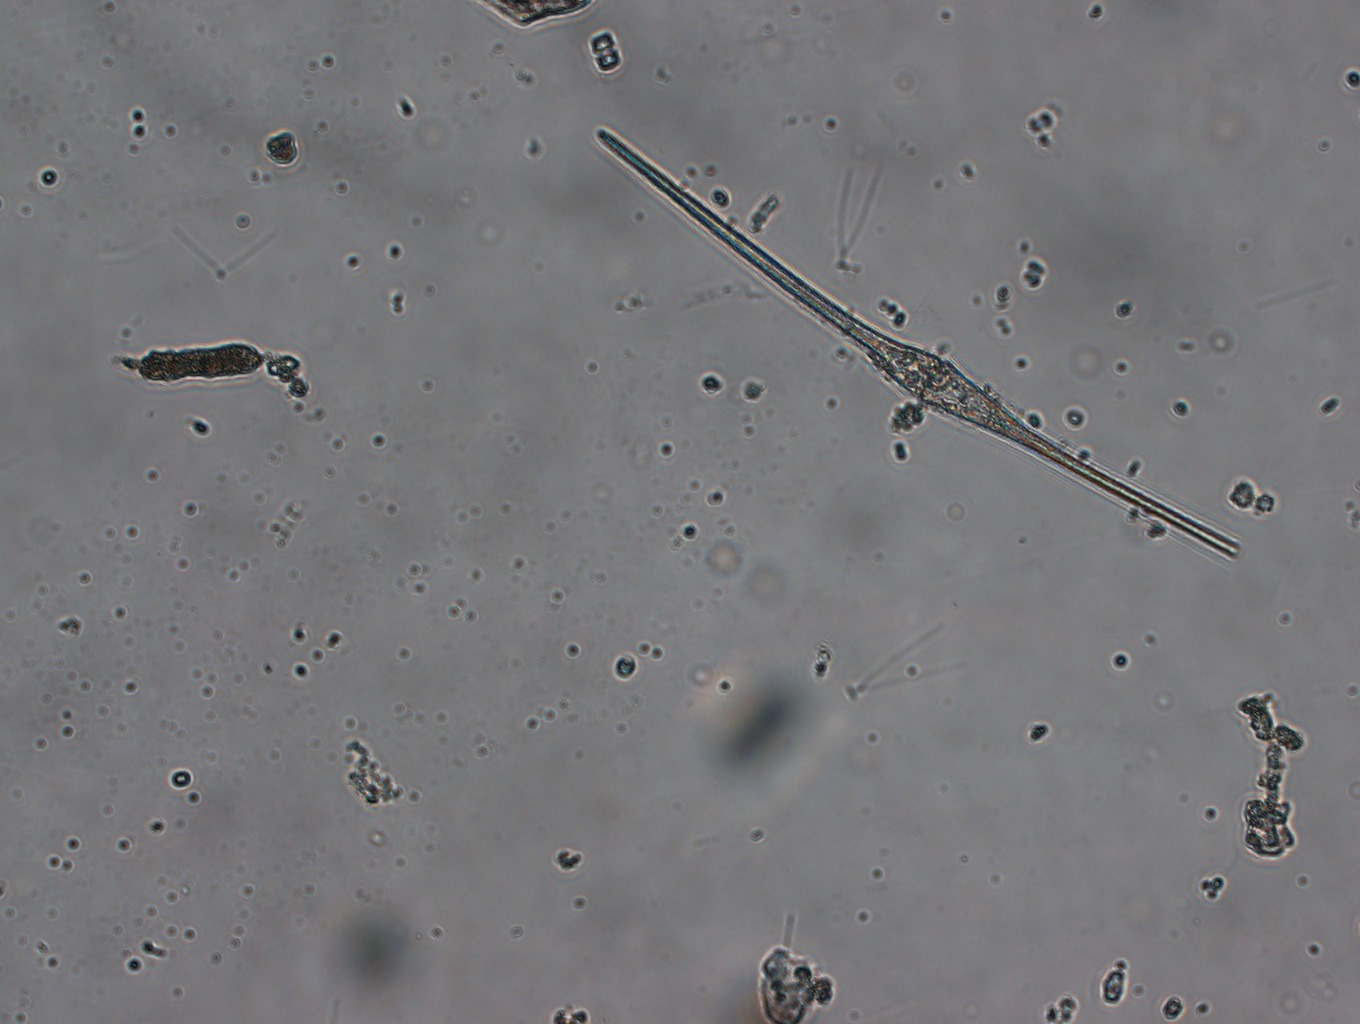ceratium fusus: (585, 122, 1257, 575)
